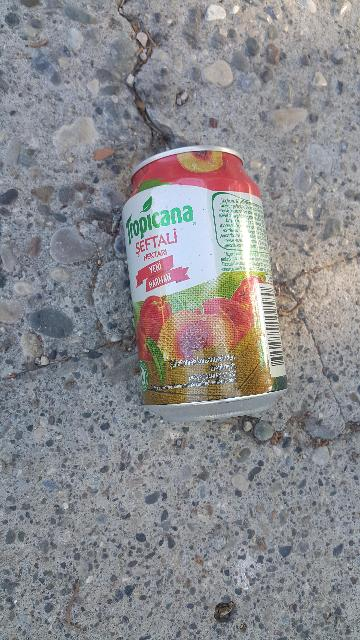metal: (122, 146, 287, 421)
